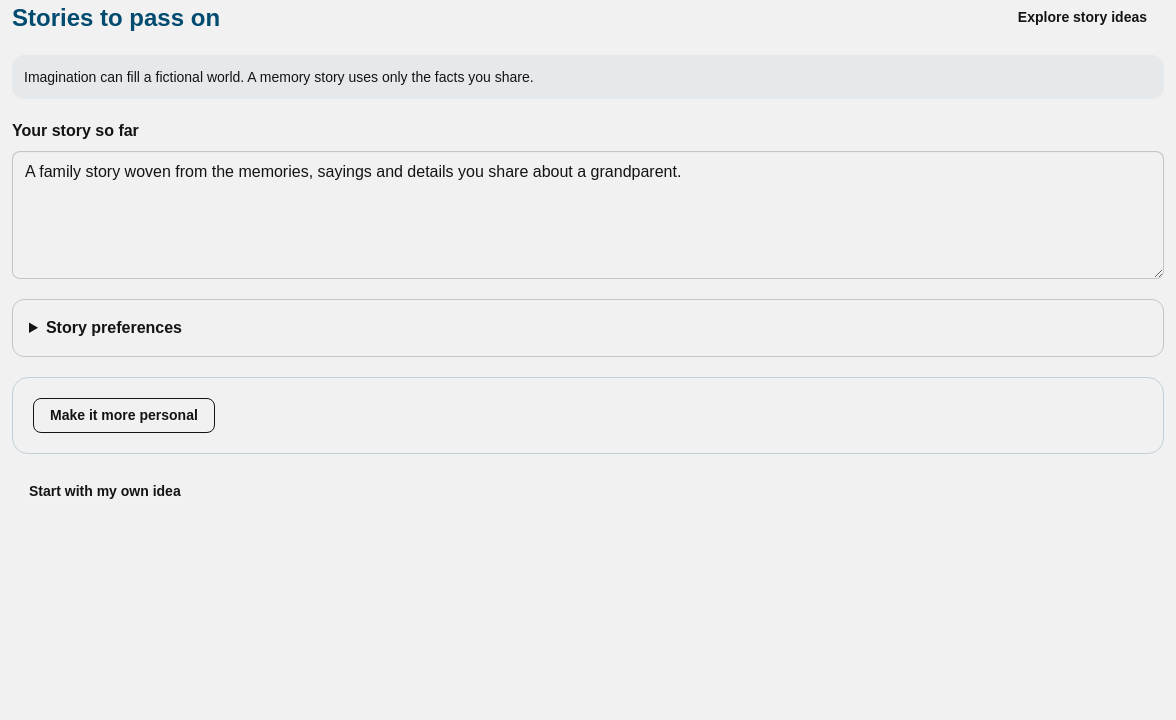
Test case: StoryTemplatePicker › does not preselect a factual fallback answer after a network failure
Click the button "Make it more personal": (124, 416) [33,398,215,433]
(page scrolled)
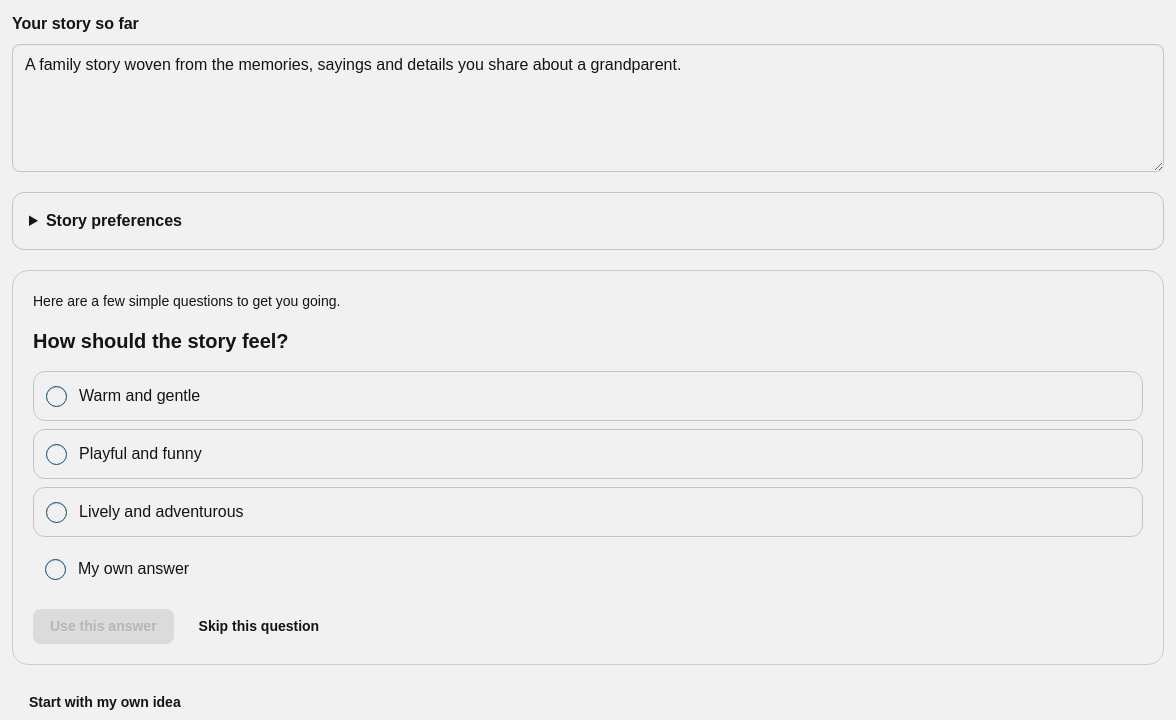
Check: the button "Use this answer" is disabled, box [33,609,174,644]
